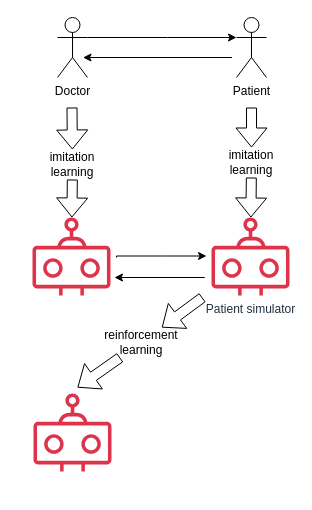
The diagram is 312 pixels wide and 510 high, and some of its shapes have lost their labels. The shapes that lost their labels are listed below. From the top down, each one's box as (x1, y1, x2, y2) in pixels, then its label:
(32, 217, 110, 295): Doctor simulator
(33, 393, 111, 471): Healthcare optimizer
